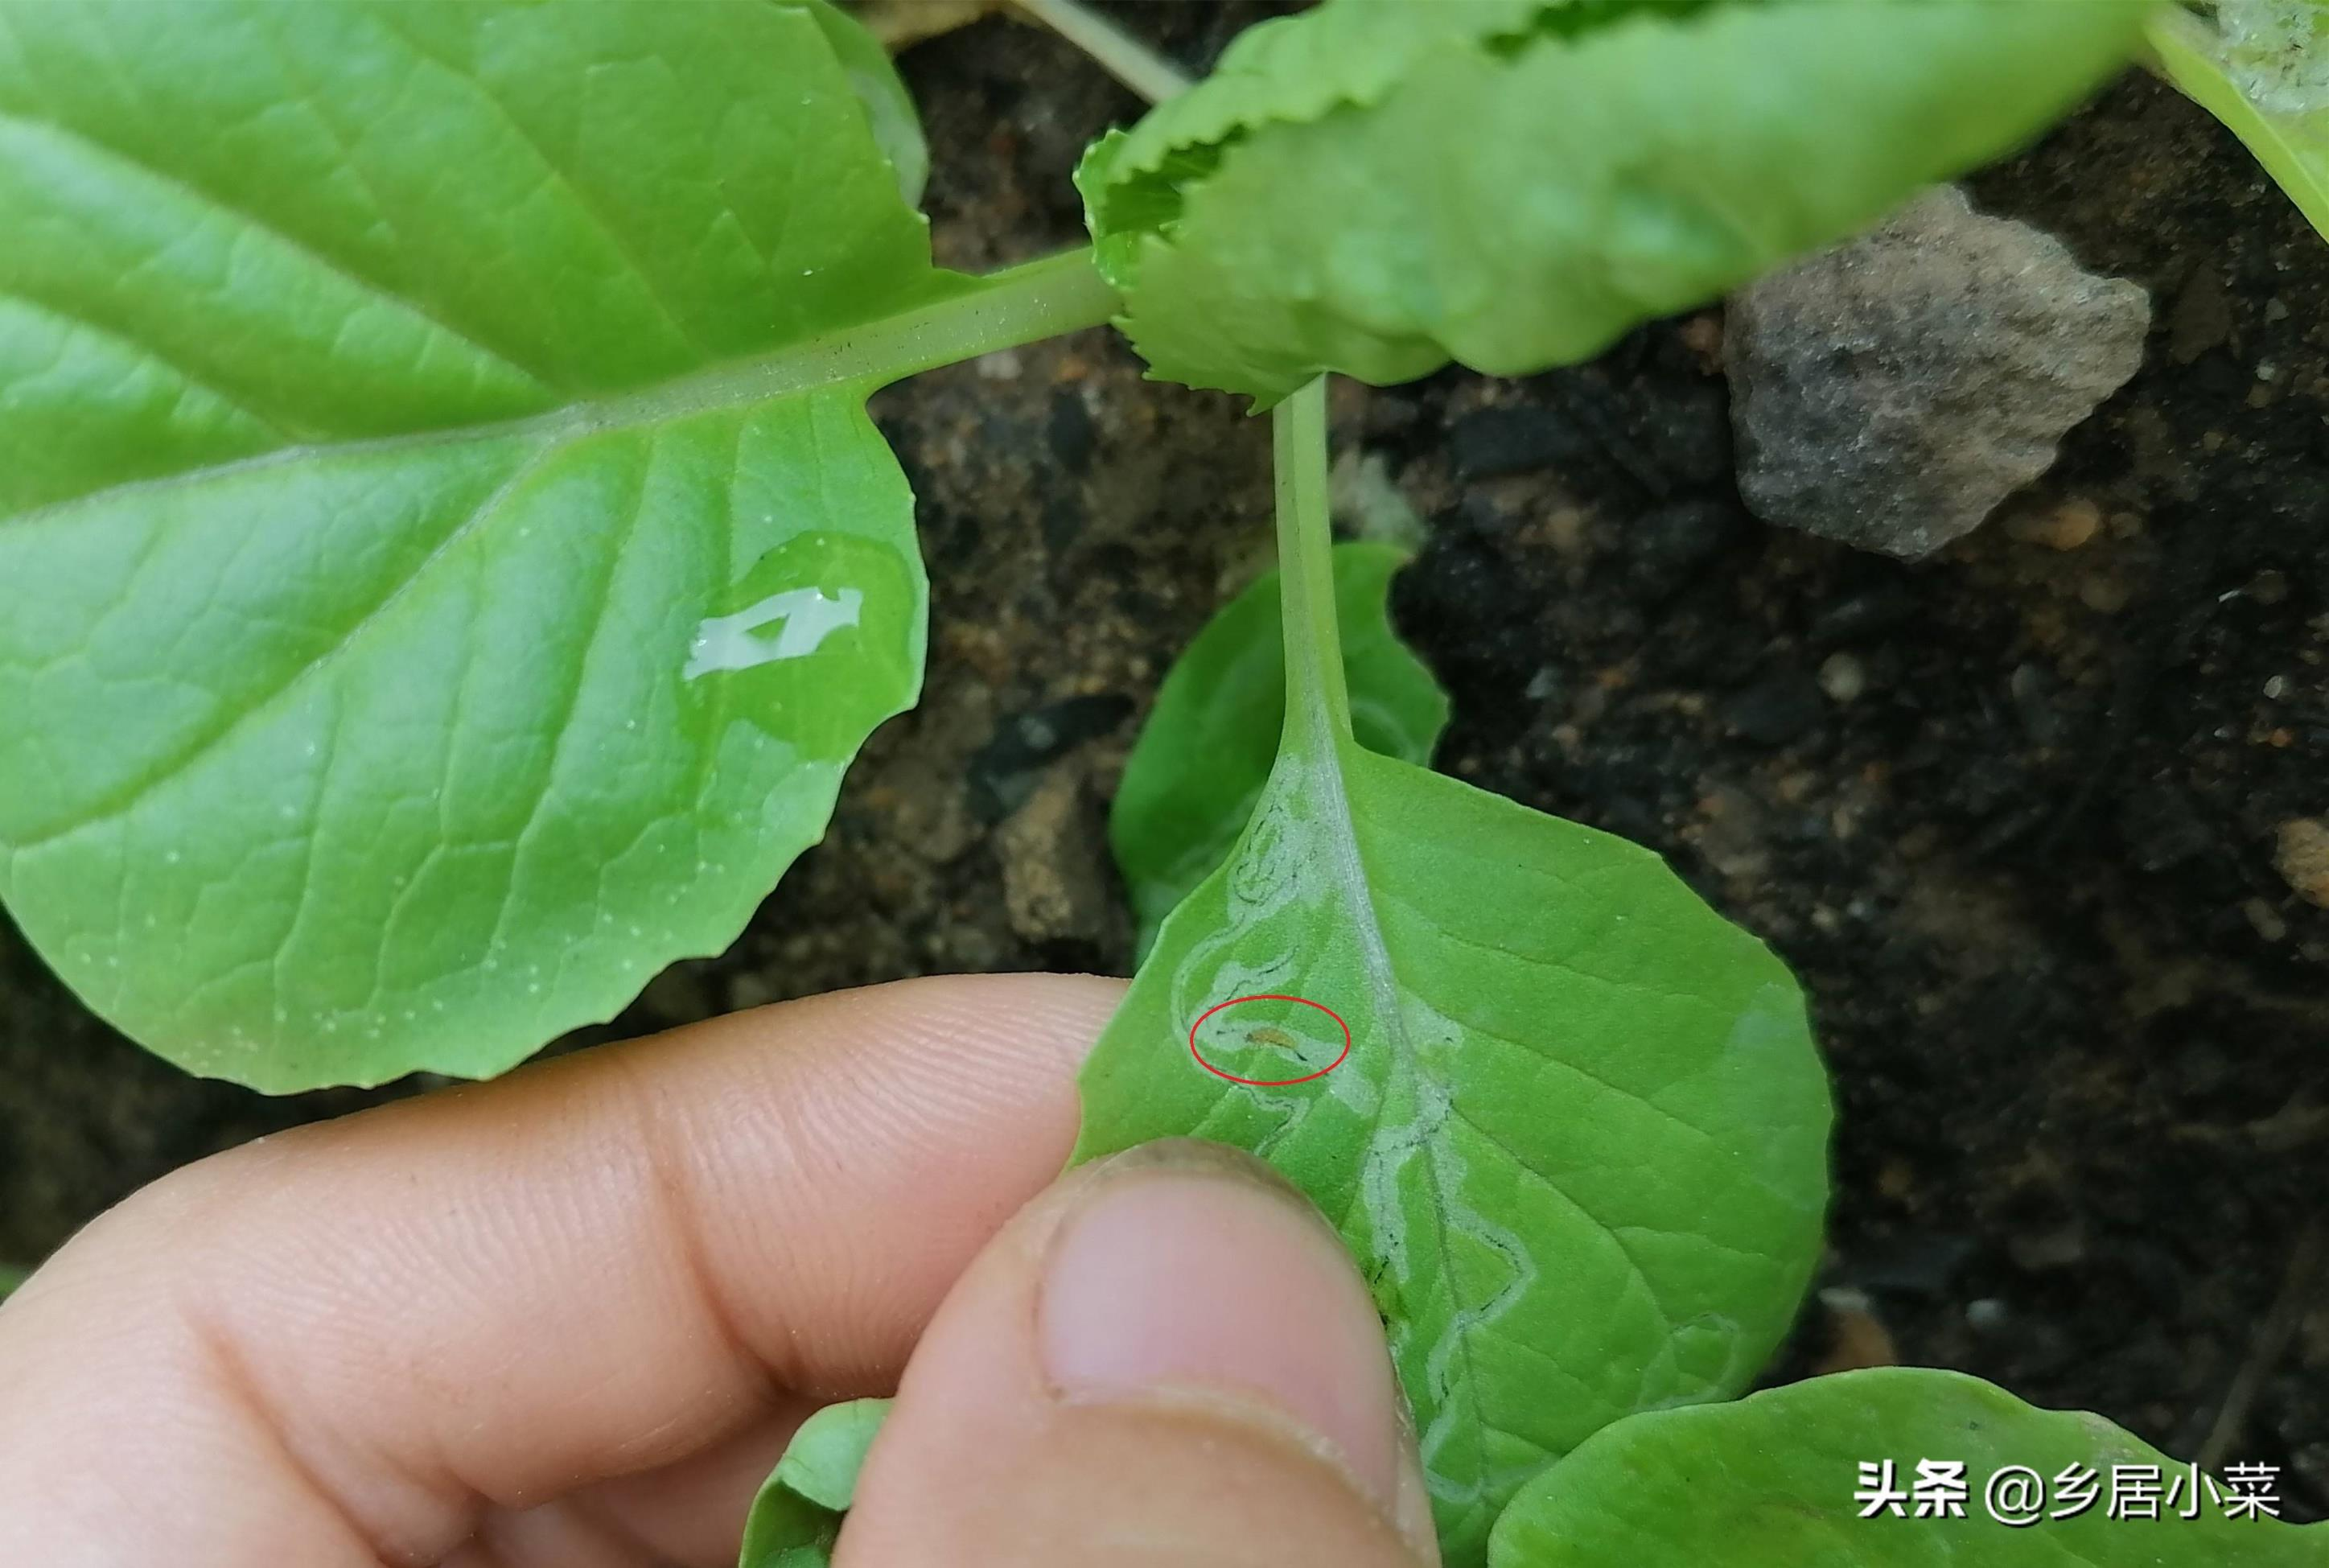liriomyza: (1155, 705, 1538, 1512)
